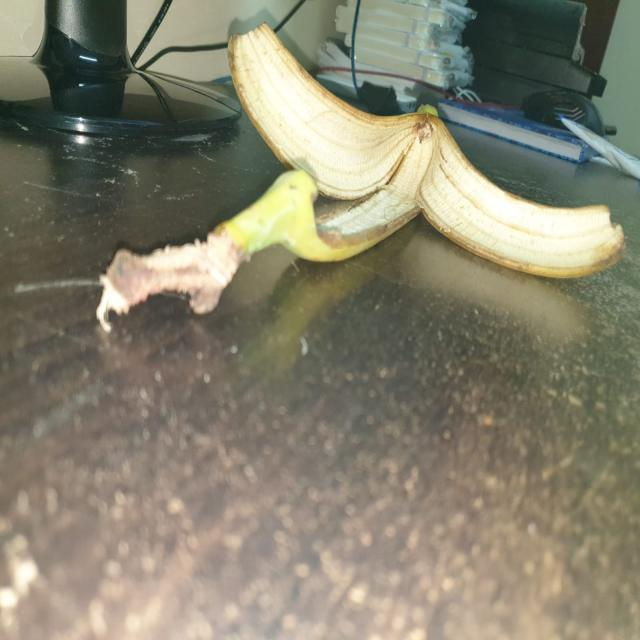banana-peel: (224, 19, 625, 280)
